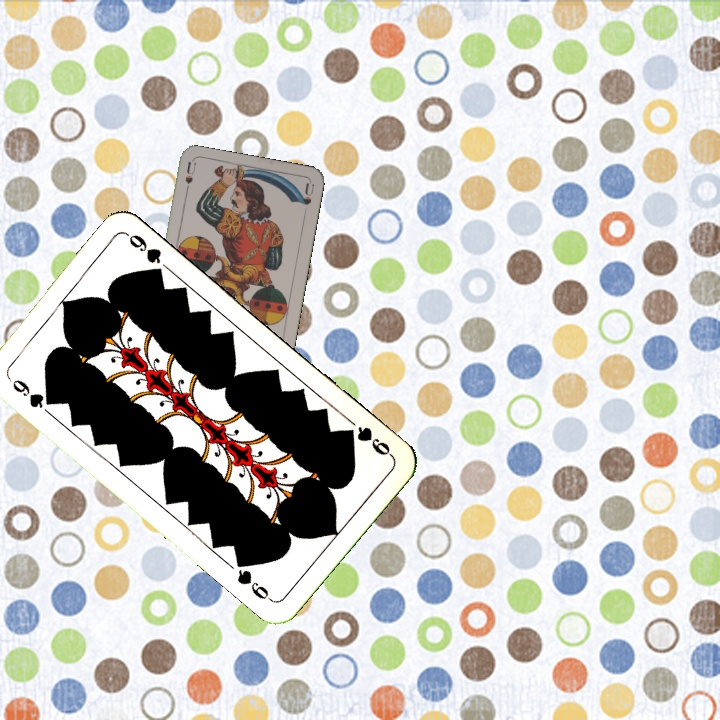G9: (4, 373, 58, 417), (340, 422, 395, 460)
SU: (181, 159, 198, 200)
